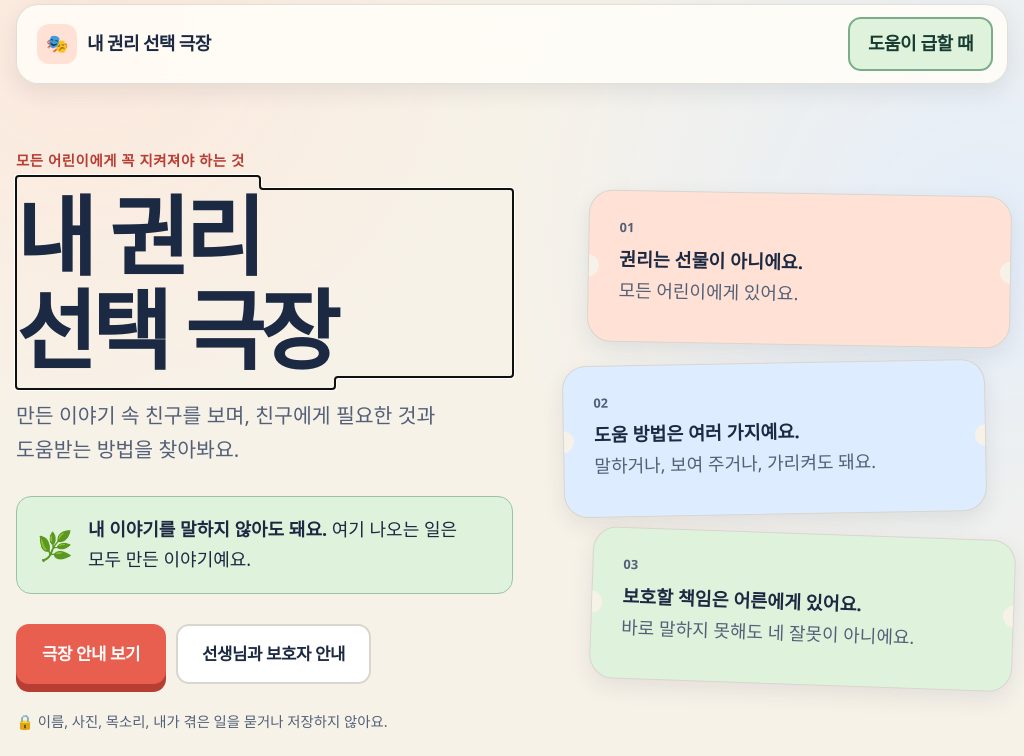
내 권리 선택 극장 흐름 › 활동 종료 전에 확인하고 계속하기를 고르면 현재 장면을 유지한다
This screenshot has width=1024, height=756.
Click the button "극장 안내 보기".
click(91, 654)  # box [16,624,166,684]
(page scrolled)
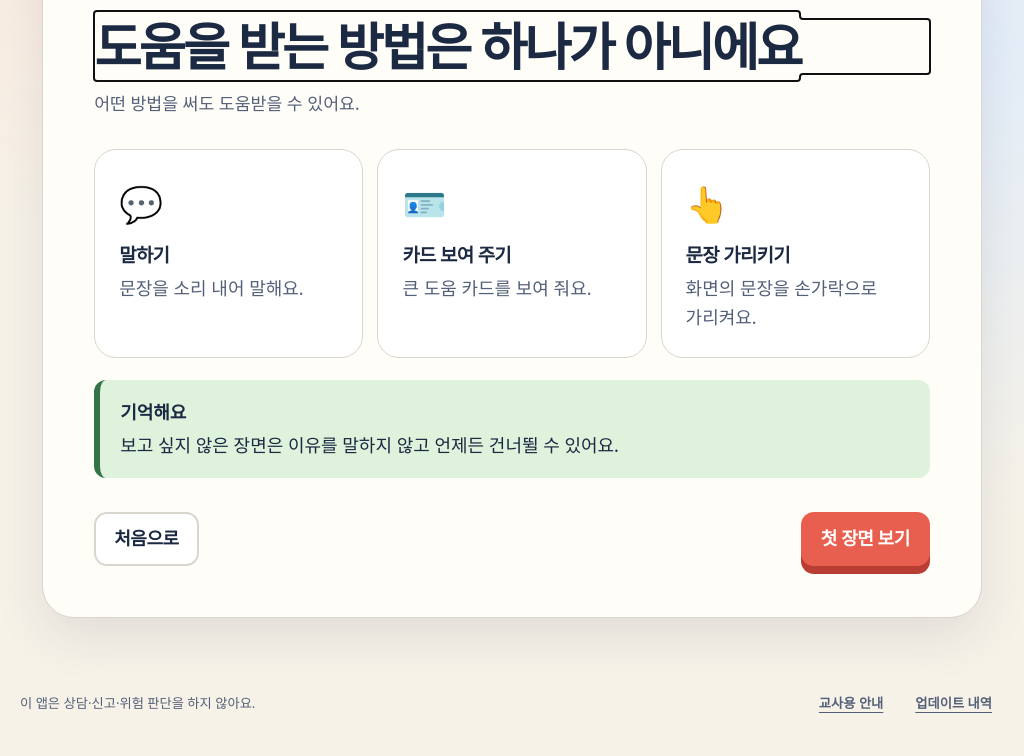
Click the button "첫 장면 보기".
click(865, 539)  # box [801,512,930,566]
(page scrolled)
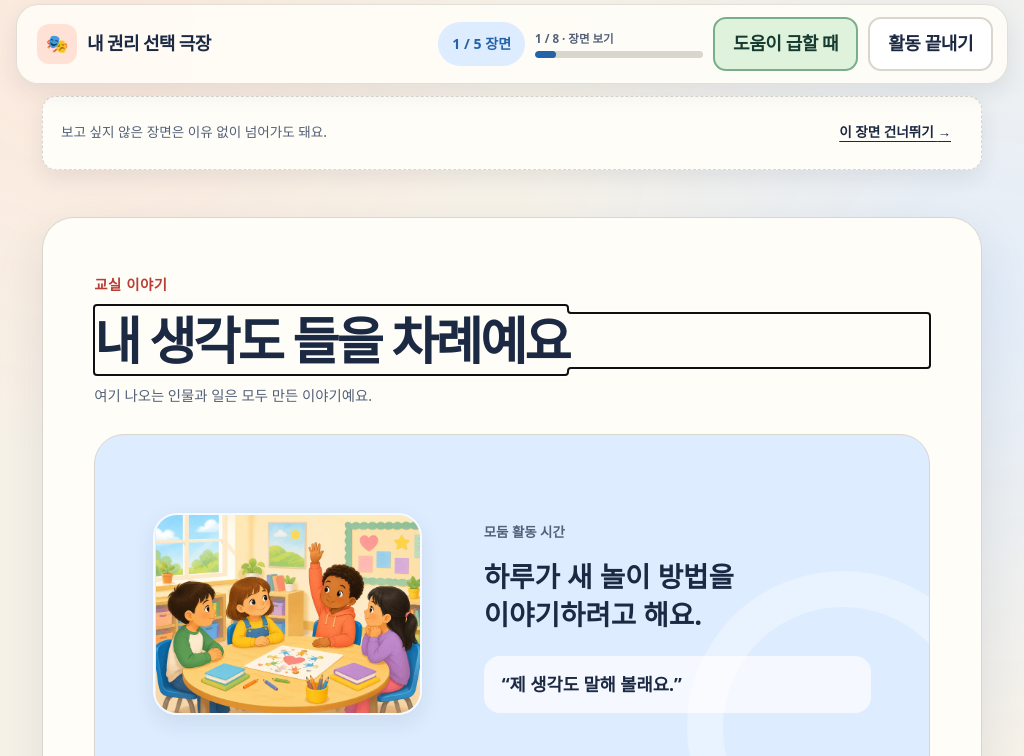
Click the button "활동 끝내기".
click(931, 44)  # box [868,17,993,71]
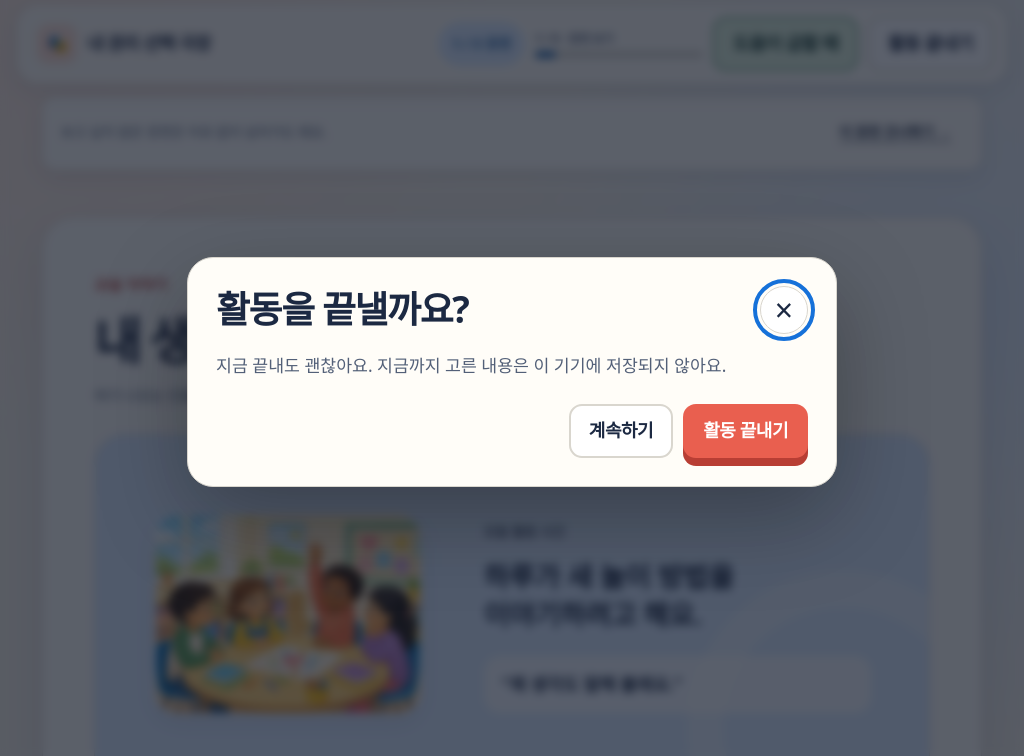
Expected: the dialog "활동을 끝낼까요?" is shown, [187,257,837,487]
Click the button "계속하기".
click(621, 431)  # box [569,404,673,458]
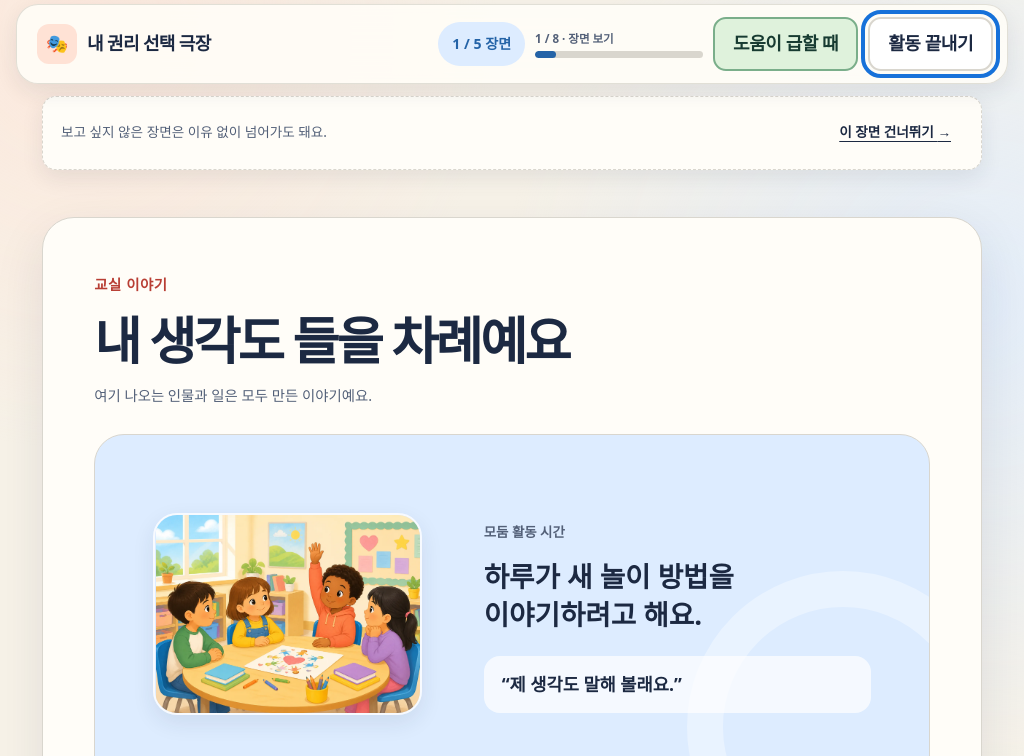
Expected: the heading "내 생각도 들을 차례예요" is shown, [94,305,568,375]
Click the button "활동 끝내기".
click(931, 44)  # box [868,17,993,71]
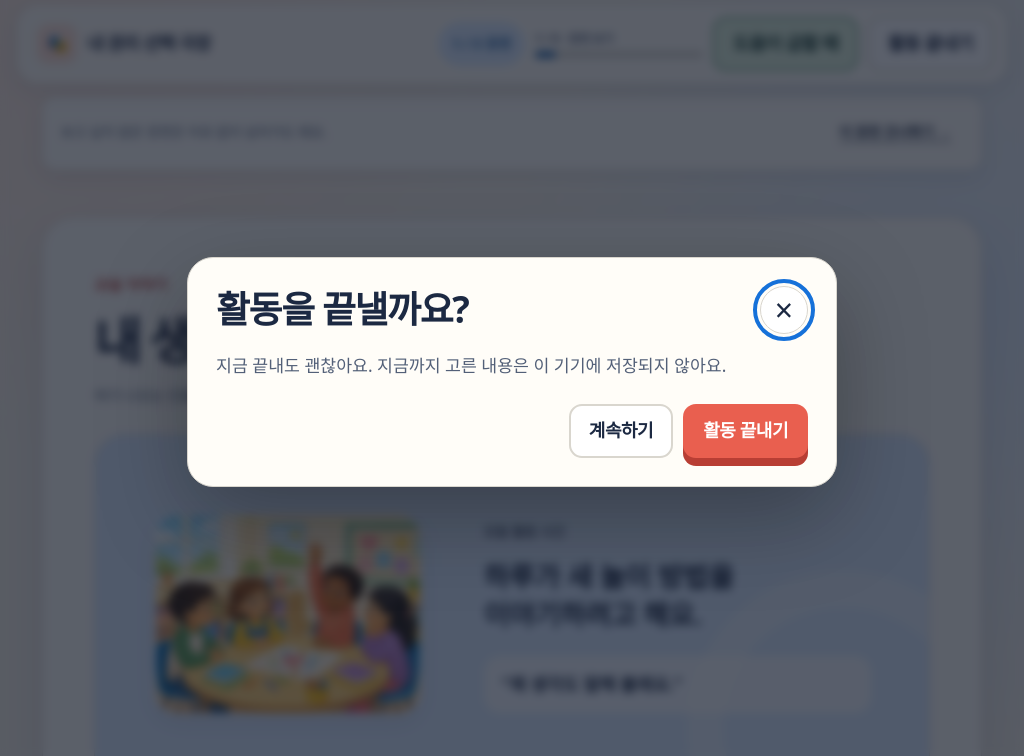
Click the button "활동 끝내기".
click(746, 431)  # box [683,404,808,458]
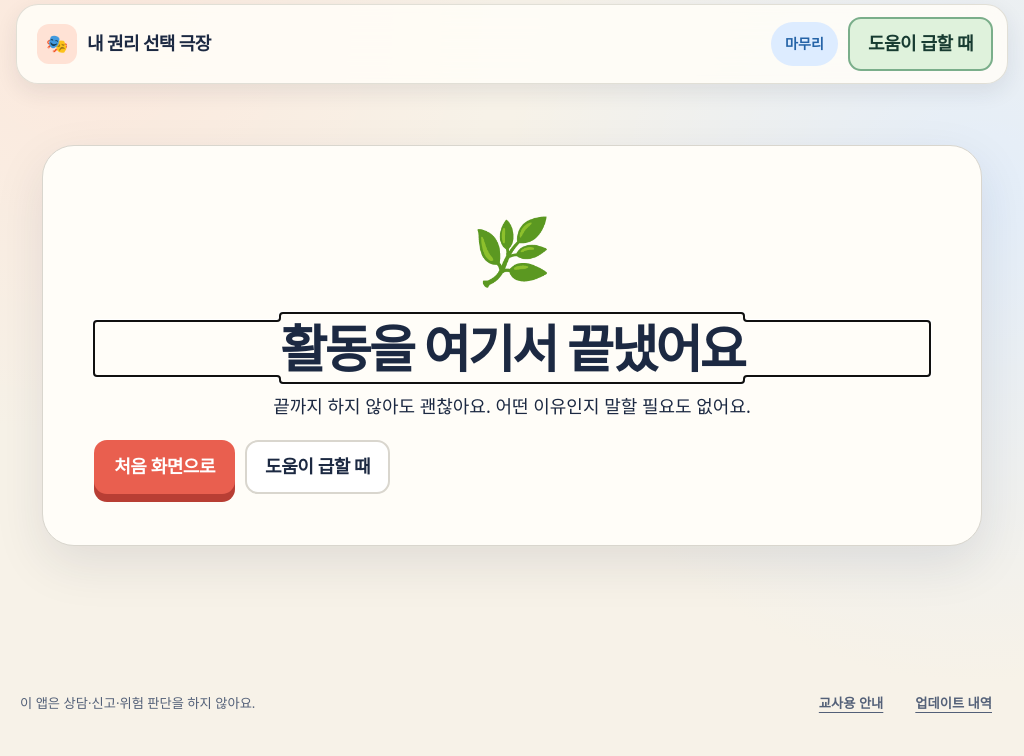
Expected: the heading "활동을 여기서 끝냈어요" is shown, [280,313,744,383]
